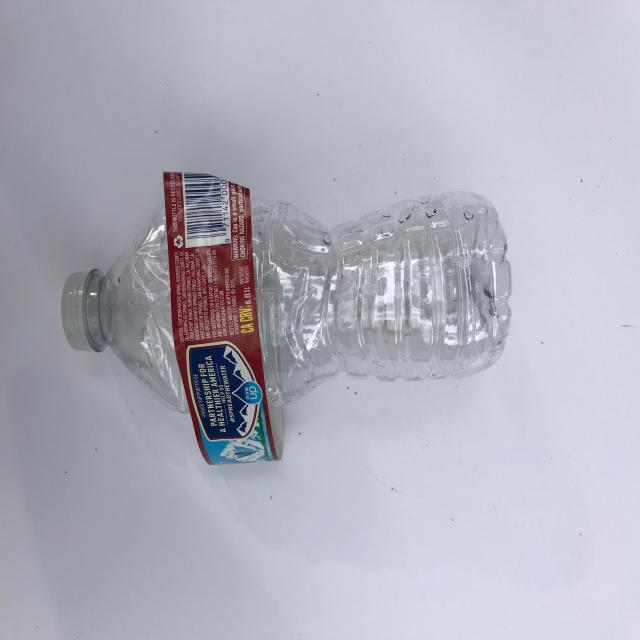plastic: (55, 165, 524, 472)
